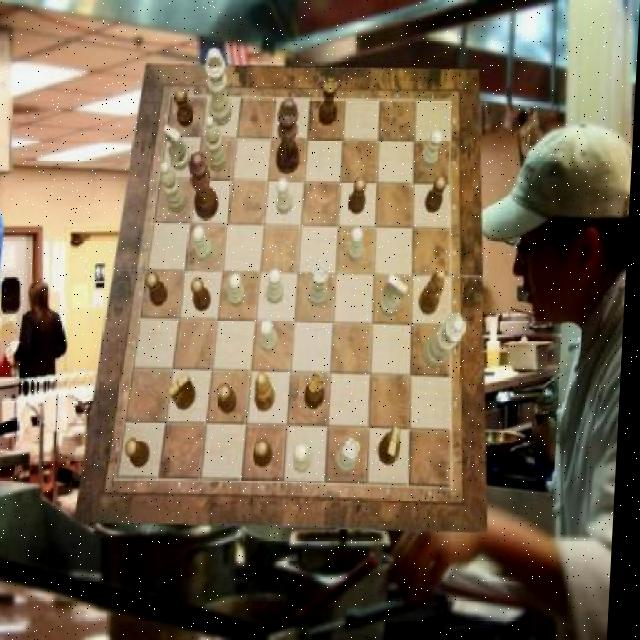bishop: (421, 270, 447, 316), (257, 372, 279, 412)
black-bishop: (277, 99, 304, 174)
black-king: (171, 372, 200, 410), (382, 428, 406, 466)
black-knight: (148, 272, 172, 307), (425, 175, 447, 213), (175, 89, 196, 128), (129, 438, 154, 468), (193, 277, 215, 311), (220, 383, 241, 414), (350, 178, 368, 214), (256, 440, 278, 468)
black-pawn: (188, 152, 223, 220)
black-queen: (319, 79, 340, 126), (308, 372, 329, 410)
black-rook: (160, 162, 189, 212), (206, 117, 231, 171)
white-bishop: (204, 48, 235, 126)
white-king: (162, 125, 192, 170), (381, 274, 410, 316)
white-knight: (422, 131, 444, 168), (194, 226, 215, 262), (277, 178, 296, 214), (268, 269, 287, 304), (263, 318, 282, 352), (230, 274, 249, 308), (349, 228, 368, 262), (298, 442, 317, 472)
white-pawn: (426, 312, 471, 367)
white-queen: (310, 265, 332, 306), (340, 439, 365, 473)
